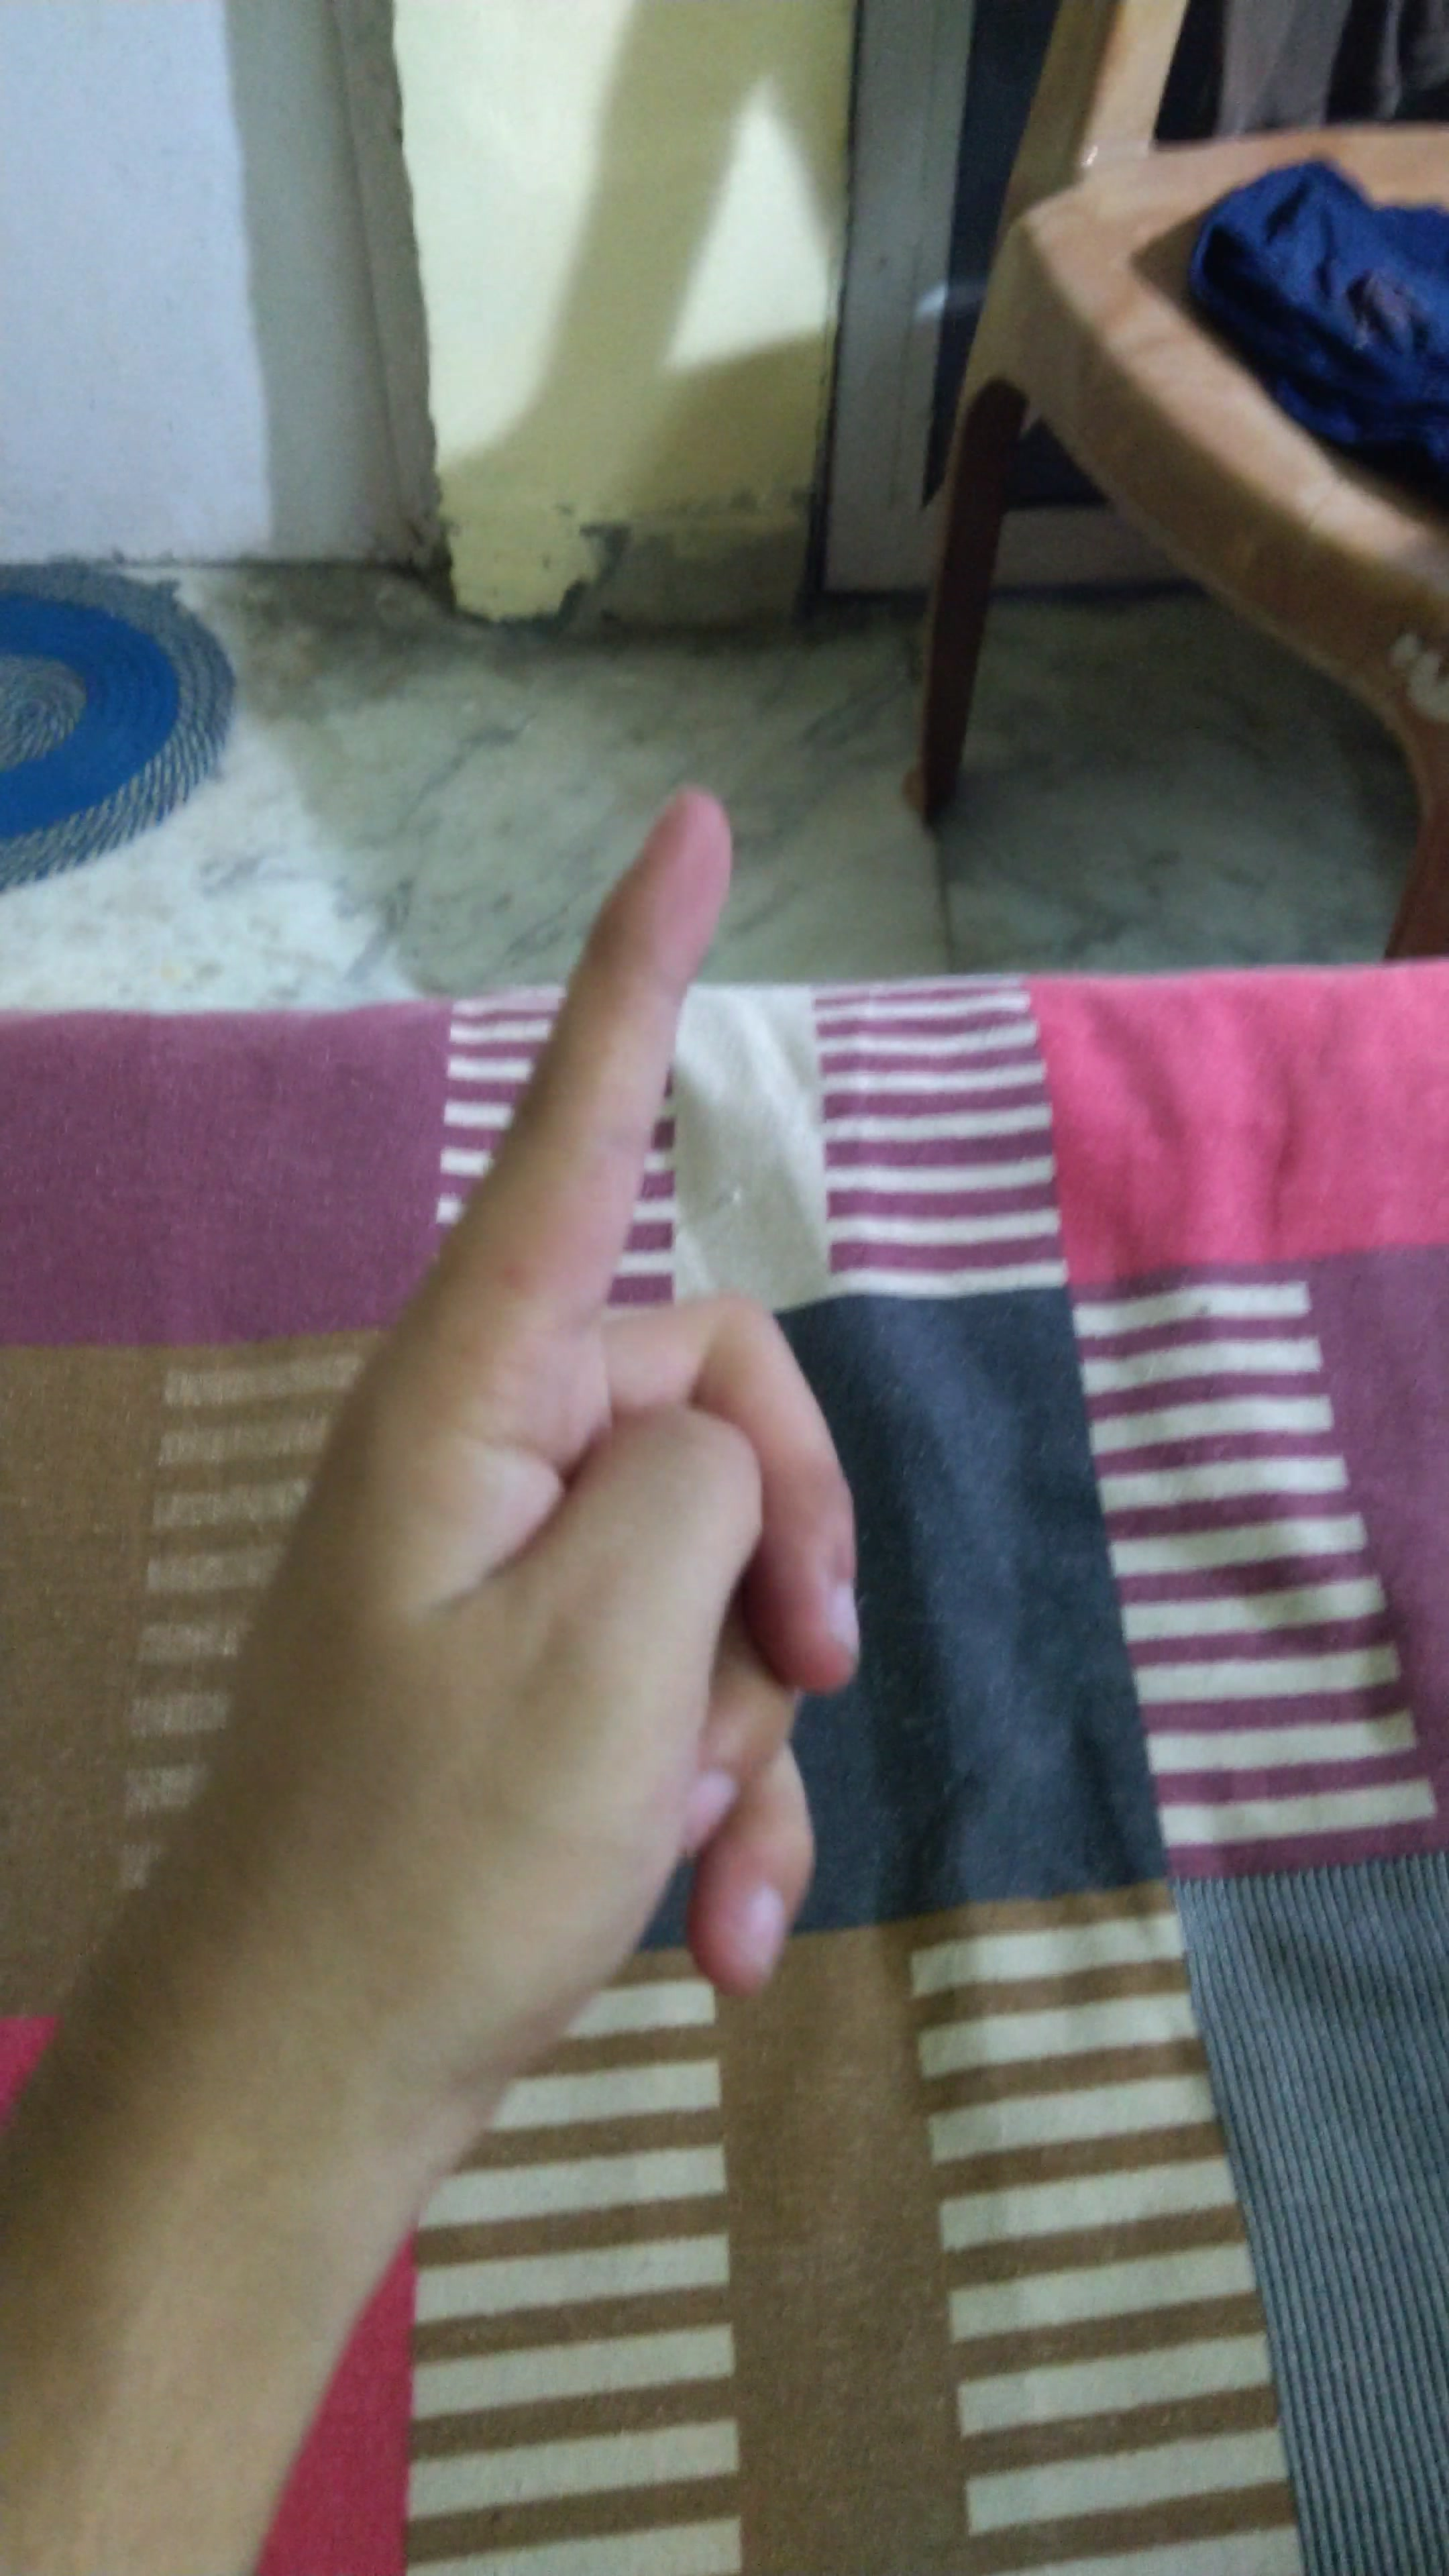hand: (170, 784, 1010, 2093)
